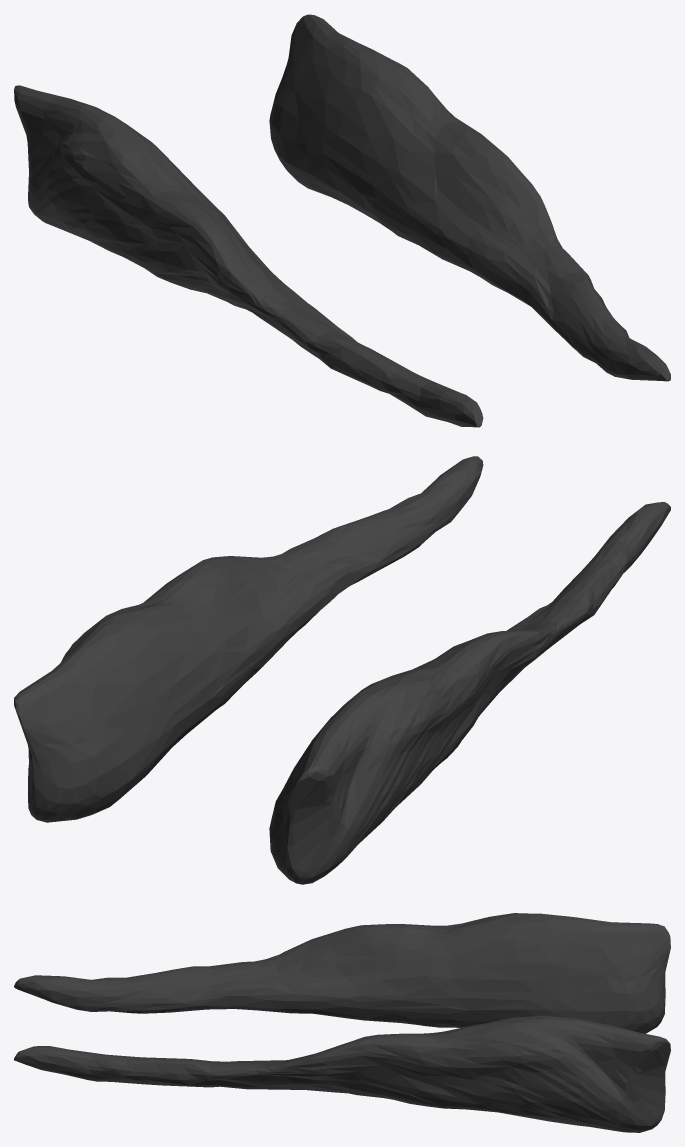
Rendered from m_iliocostalis_lumborum.glb.
3 renders of one model, top to bottom at view 1: azimuth 30°, elevation 25°; view 2: azimuth 150°, elevation 25°; view 3: azimuth 270°, elevation 25°, orthographic. The views are drawn at different scales.
Visible parts, largest first — view 1: m_iliocostalis_lumborum; view 2: m_iliocostalis_lumborum; view 3: m_iliocostalis_lumborum.
Boxes of the visible parts, x1=… form: m_iliocostalis_lumborum: x1=14, y1=14, x2=670, y2=427; m_iliocostalis_lumborum: x1=14, y1=456, x2=670, y2=884; m_iliocostalis_lumborum: x1=14, y1=913, x2=670, y2=1132.
Bounding box in the file's own units: 0.00329 × 0.00137 × 0.00698.
1 material, 1 textured.
